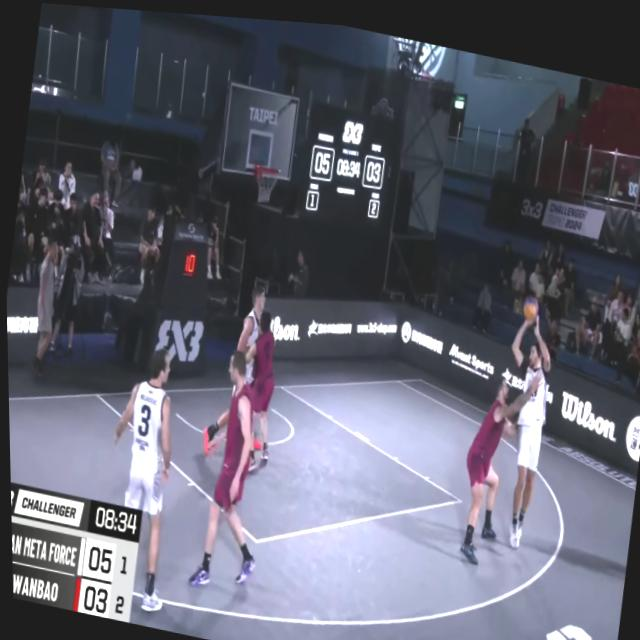ball: (516, 282, 542, 323)
hoop: (248, 154, 282, 207)
player: (85, 327, 201, 616), (180, 337, 284, 601), (446, 354, 545, 569), (484, 300, 560, 545), (195, 272, 267, 459), (231, 302, 286, 466)
